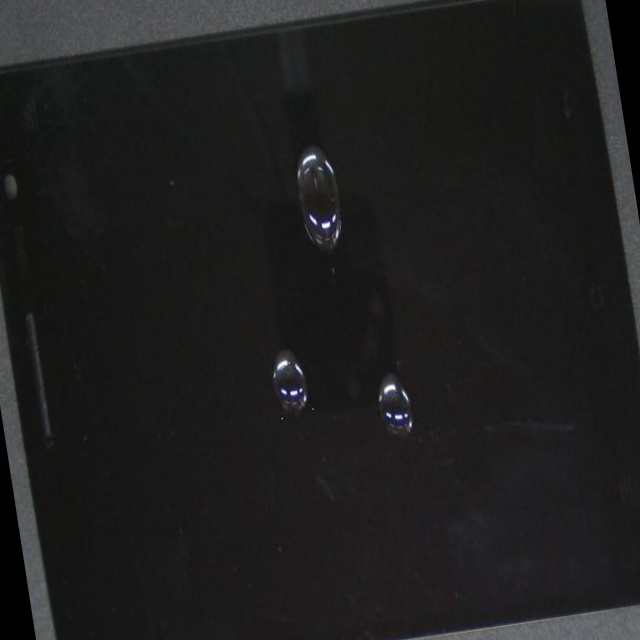oil: (163, 89, 601, 625), (77, 147, 452, 640), (123, 0, 471, 294)
